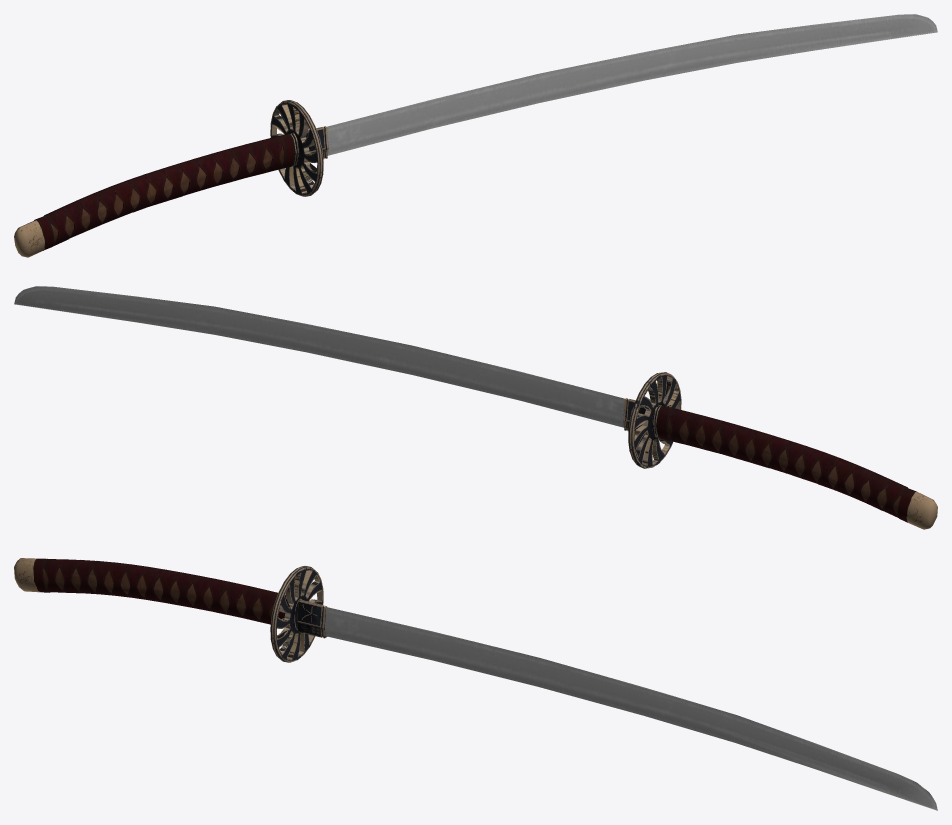
The model's file is katana.glb.
The picture shows the model from 3 angles, top to bottom: view 1: azimuth 30°, elevation 25°; view 2: azimuth 150°, elevation 25°; view 3: azimuth 330°, elevation 25°; orthographic projection.
Parts seen in each view (by area): view 1: antique_katana_01; view 2: antique_katana_01; view 3: antique_katana_01.
Boxes of the visible parts, x1=… form: antique_katana_01: x1=14, y1=14, x2=937, y2=257; antique_katana_01: x1=14, y1=286, x2=937, y2=529; antique_katana_01: x1=14, y1=558, x2=937, y2=810.
Bounding box in the file's own units: 0.82 × 0.0763 × 0.0763.
Materials: 1 (1 with a texture image).
